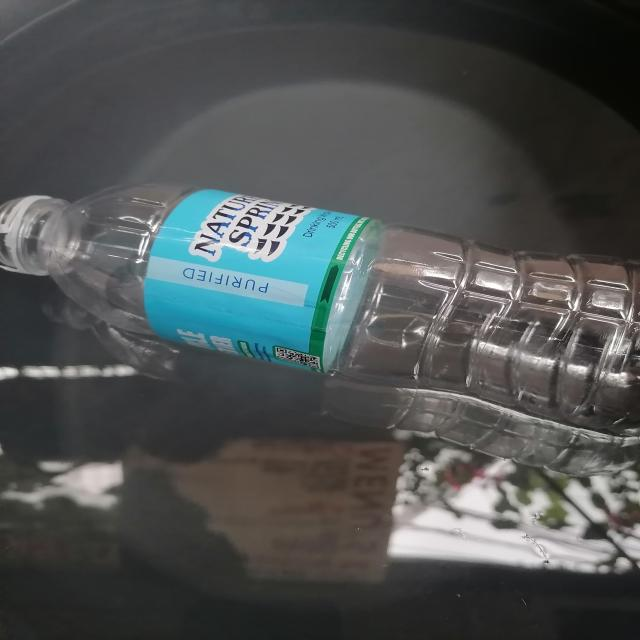Plastic Bottle: (0, 165, 640, 454)
